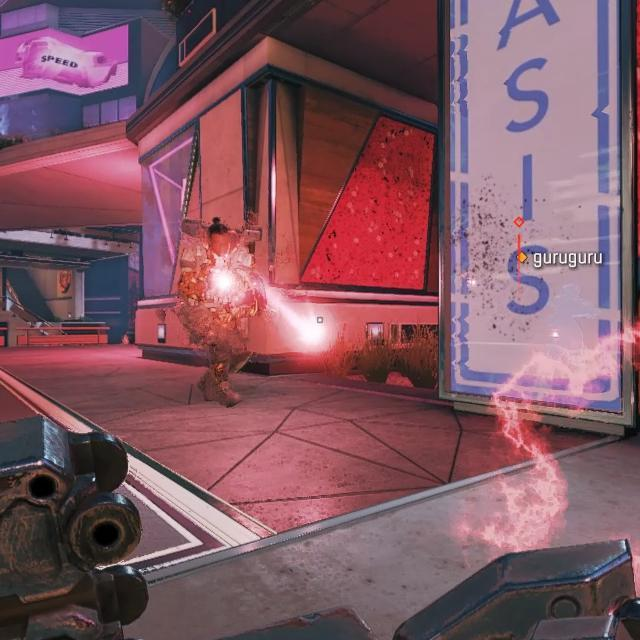avatar: (170, 216, 267, 406)
